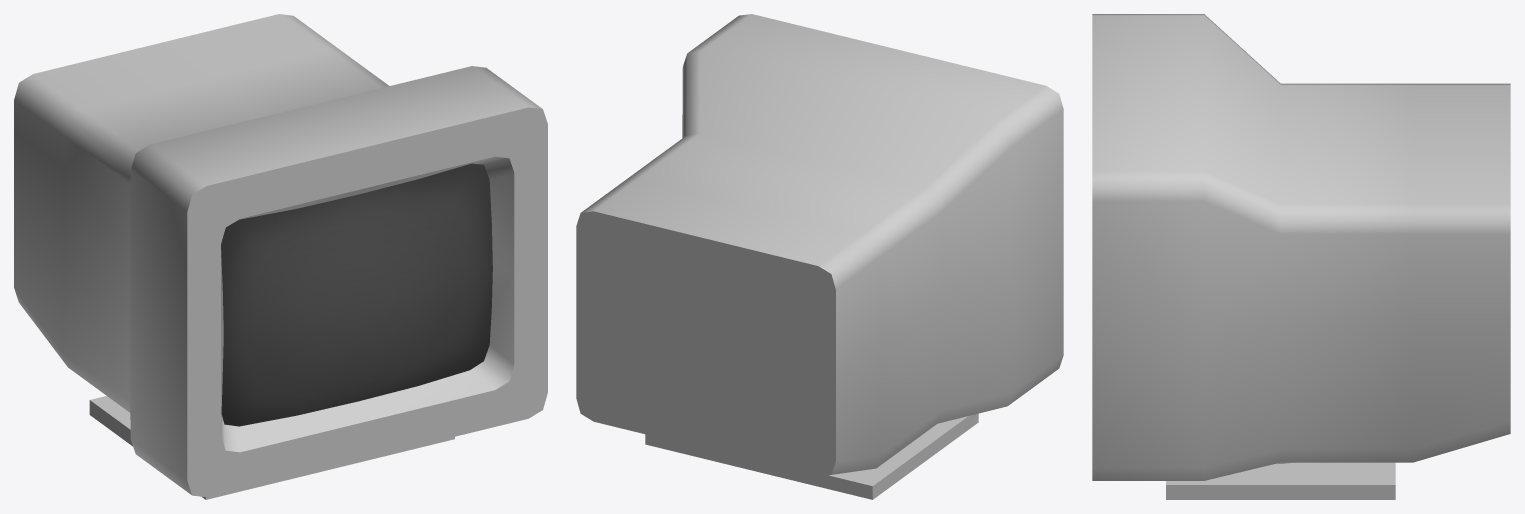
The model's file is px2_monitor-opt.FBX.
3 renders of one model, left to right at view 1: azimuth 30°, elevation 25°; view 2: azimuth 150°, elevation 25°; view 3: azimuth 270°, elevation 25°, orthographic. The views are drawn at different scales.
Parts seen in each view (by area): view 1: px2_monitor-opt, px2_monitor-screen; view 2: px2_monitor-opt; view 3: px2_monitor-opt.
Boxes of the visible parts, x1,y1,x2,y2 form: px2_monitor-opt: (14, 14, 547, 499); px2_monitor-screen: (221, 163, 492, 426); px2_monitor-opt: (576, 14, 1063, 499); px2_monitor-opt: (1092, 14, 1510, 499).
Size of the model in its own units: 0.3764 by 0.3494 by 0.3824.
